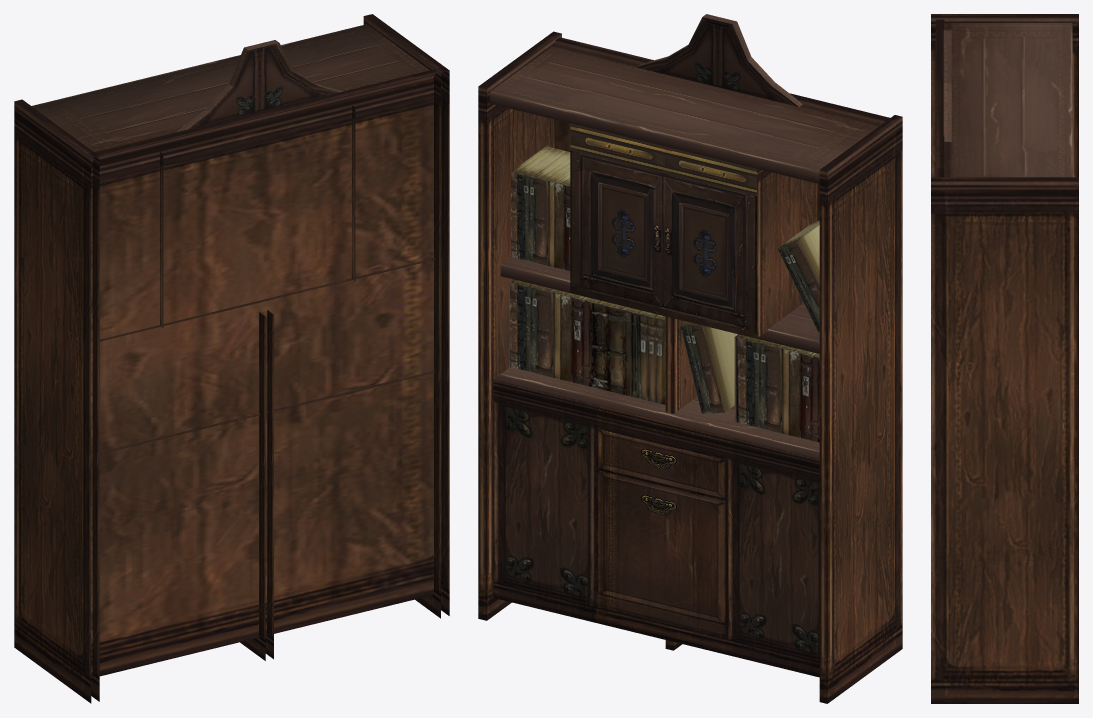
The model's file is furniture_k05.FBX.
The picture shows the model from 3 angles, left to right: view 1: azimuth 30°, elevation 25°; view 2: azimuth 150°, elevation 25°; view 3: azimuth 270°, elevation 25°; orthographic projection. The views are drawn at different scales.
Parts seen in each view (by area): view 1: furniture_k05; view 2: furniture_k05; view 3: furniture_k05.
Part boxes in pixels (x1,y1,x2,y2): furniture_k05: (14,14,449,703); furniture_k05: (478,14,902,703); furniture_k05: (931,14,1078,703).
Bounding box in the file's own units: 1.77 × 2.88 × 0.6624.
